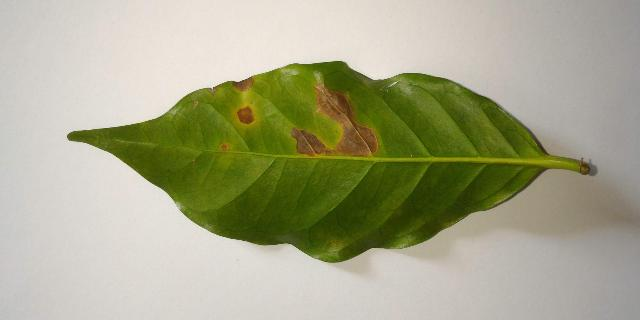cercospora: (291, 82, 379, 157), (235, 104, 256, 126), (227, 76, 254, 91), (206, 84, 222, 94), (222, 143, 229, 151), (222, 83, 223, 84), (224, 82, 225, 83)
